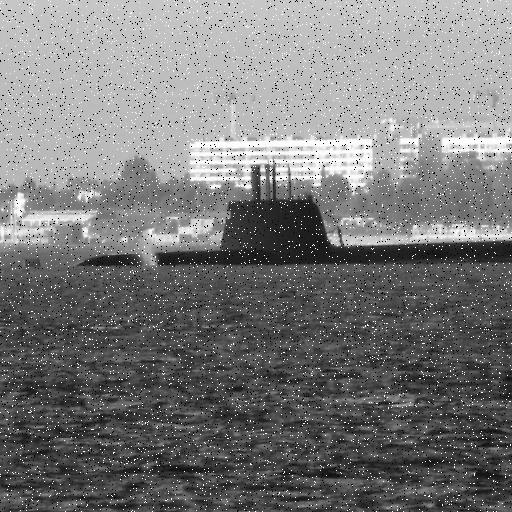submarine: (25, 151, 512, 274)
